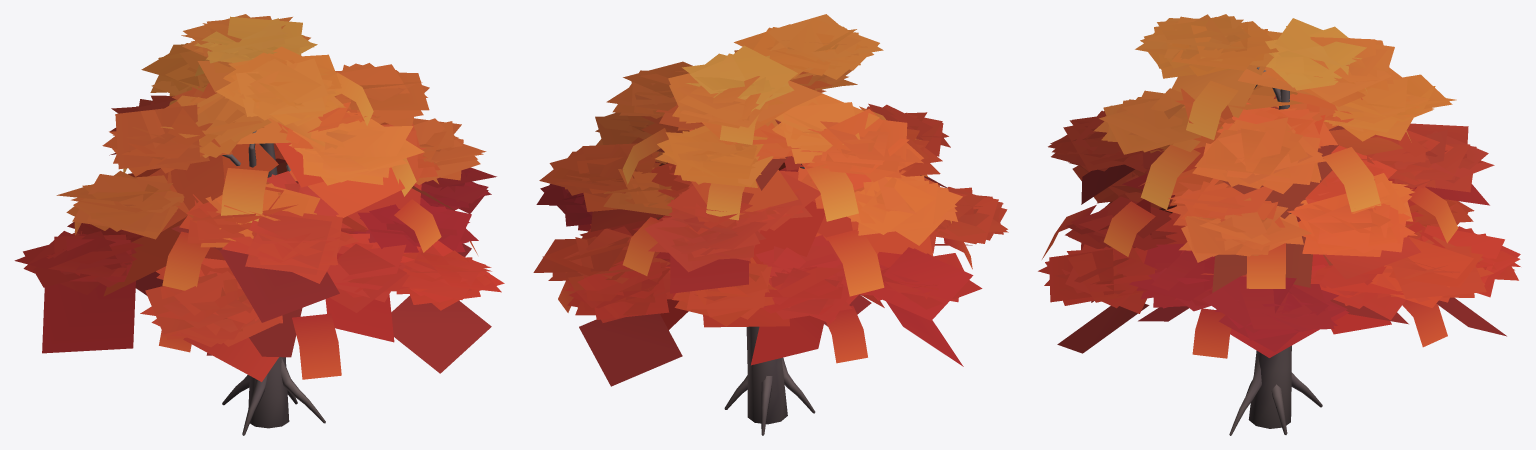
File: tree-village-momiji-v2.glb
3 renders of one model, left to right at view 1: azimuth 30°, elevation 25°; view 2: azimuth 150°, elevation 25°; view 3: azimuth 270°, elevation 25°, orthographic. The views are drawn at different scales.
Parts seen in each view (by area): view 1: cards_momiji, bark; view 2: cards_momiji, bark; view 3: cards_momiji, bark.
Part boxes in pixels (left/top/right/bottom): cards_momiji: left=14, top=14, right=504, bottom=381; bark: left=222, top=130, right=325, bottom=435; cards_momiji: left=533, top=14, right=1008, bottom=386; bark: left=724, top=164, right=815, bottom=435; cards_momiji: left=1038, top=14, right=1520, bottom=358; bark: left=1229, top=67, right=1322, bottom=435.
Bounding box in the file's own units: 5.89 × 4.77 × 5.4.
